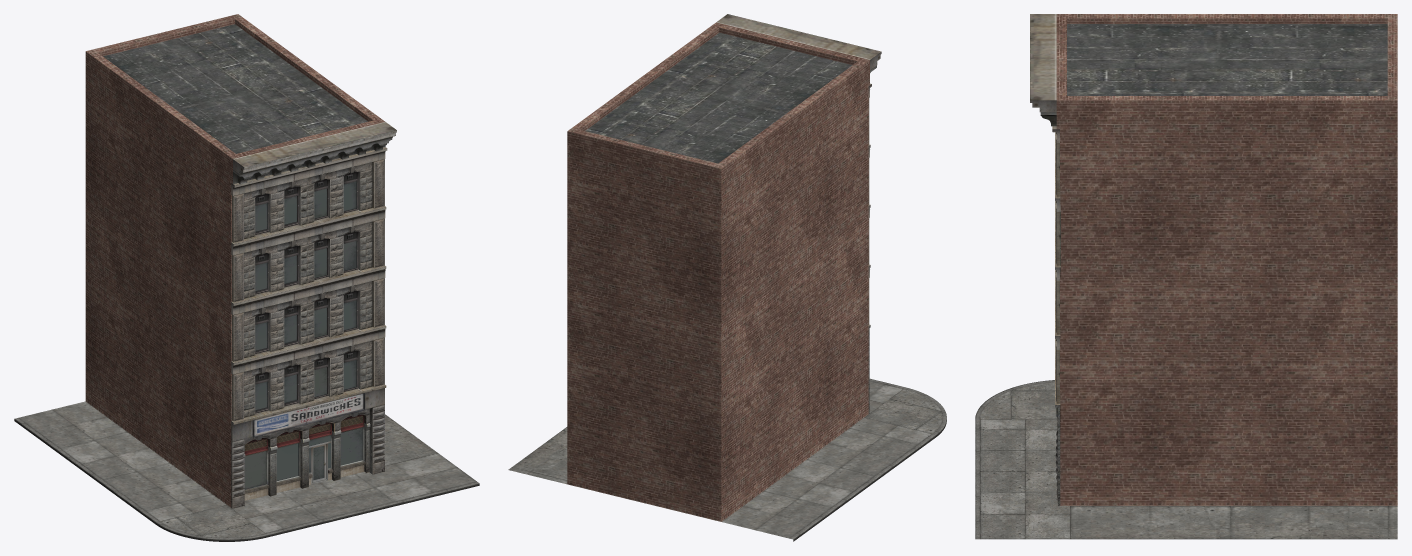
File: detailed_old_nyc_building.glb
The picture shows the model from 3 angles, left to right: view 1: azimuth 30°, elevation 25°; view 2: azimuth 150°, elevation 25°; view 3: azimuth 270°, elevation 25°; orthographic projection. The views are drawn at different scales.
Visible parts, largest first — view 1: Cylinder.001_2, Cylinder.003_4, Road.640_1, Cylinder.039_0, Cylinder.002_3, Cylinder.004_5; view 2: Cylinder.001_2, Cylinder.039_0, Road.640_1, Cylinder.003_4; view 3: Cylinder.001_2, Road.640_1, Cylinder.039_0, Cylinder.003_4.
Boxes of the visible parts, x1,y1,x2,y2 form: Cylinder.001_2: (85, 14, 384, 507); Cylinder.003_4: (231, 122, 396, 508); Road.640_1: (14, 401, 479, 541); Cylinder.039_0: (103, 24, 367, 153); Cylinder.002_3: (244, 181, 362, 488); Cylinder.004_5: (252, 393, 365, 437); Cylinder.001_2: (567, 22, 869, 521); Cylinder.039_0: (585, 32, 852, 163); Road.640_1: (508, 378, 946, 541); Cylinder.003_4: (716, 14, 881, 413); Cylinder.001_2: (1056, 14, 1397, 505); Road.640_1: (975, 380, 1397, 539); Cylinder.039_0: (1067, 24, 1387, 95); Cylinder.003_4: (1030, 14, 1060, 505).
Bounding box in the file's own units: 97.82 × 117 × 109.
6 materials, 6 textured.
